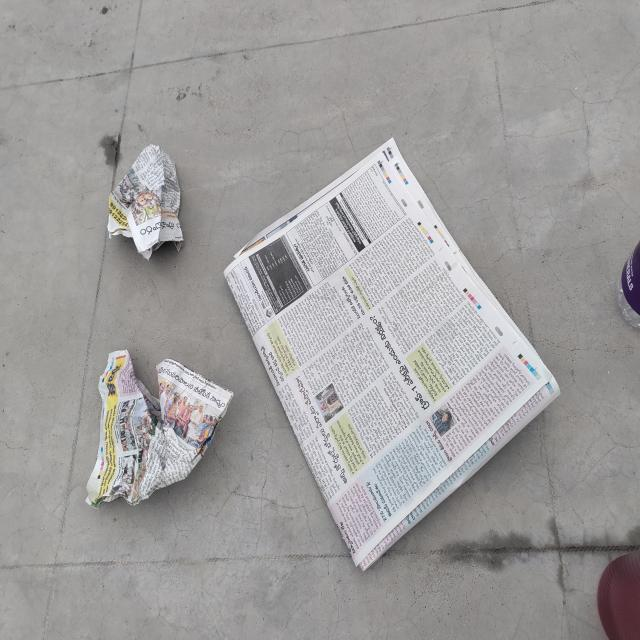paper: (219, 177, 566, 583), (78, 349, 240, 517), (89, 142, 197, 266)
plastic: (589, 542, 640, 640), (596, 240, 640, 329)
